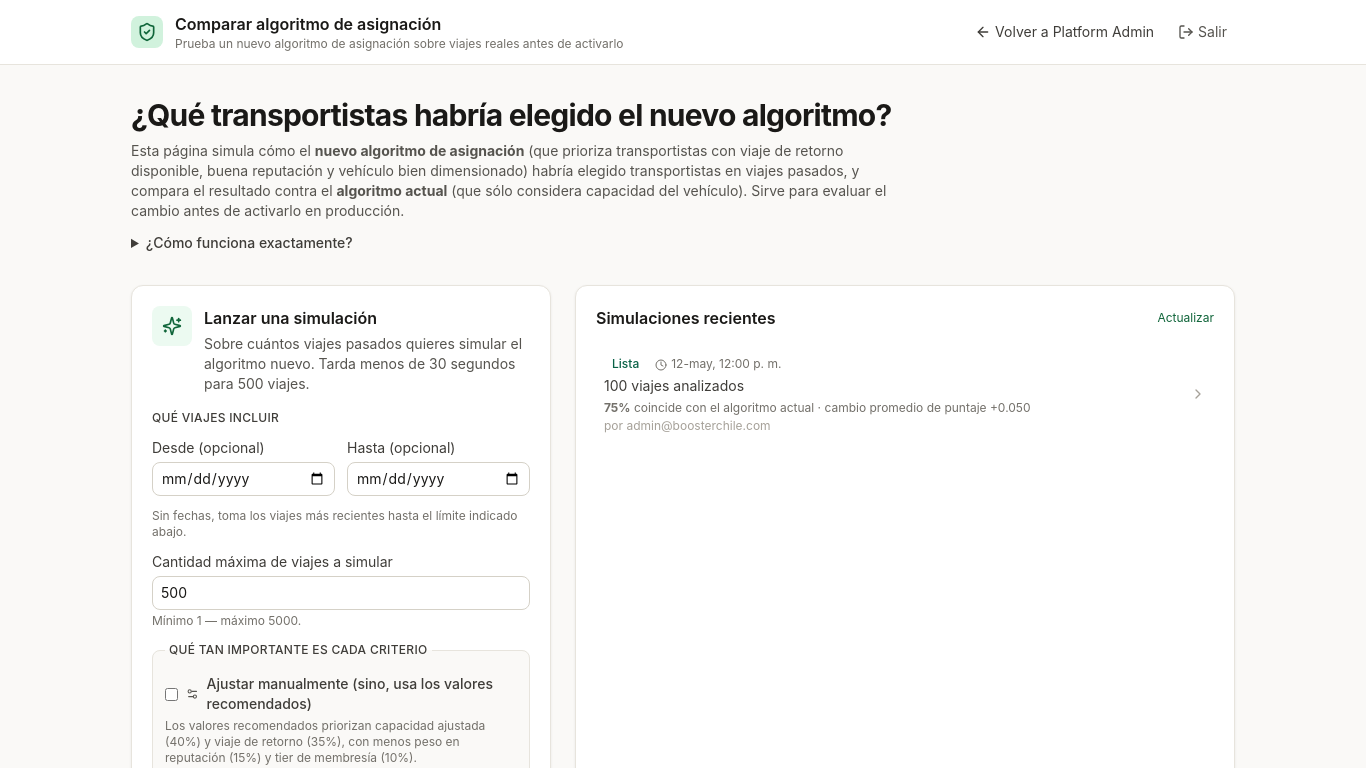
Test: Detalle de una simulación › click en una simulación carga el detalle con métricas en español
The image size is (1366, 768).
# La fila se identifica por el conteo de viajes analizados.
Click the text "100 viajes analizados" at (674, 386), box x1=604 y1=377 x2=744 y2=394
(page scrolled)
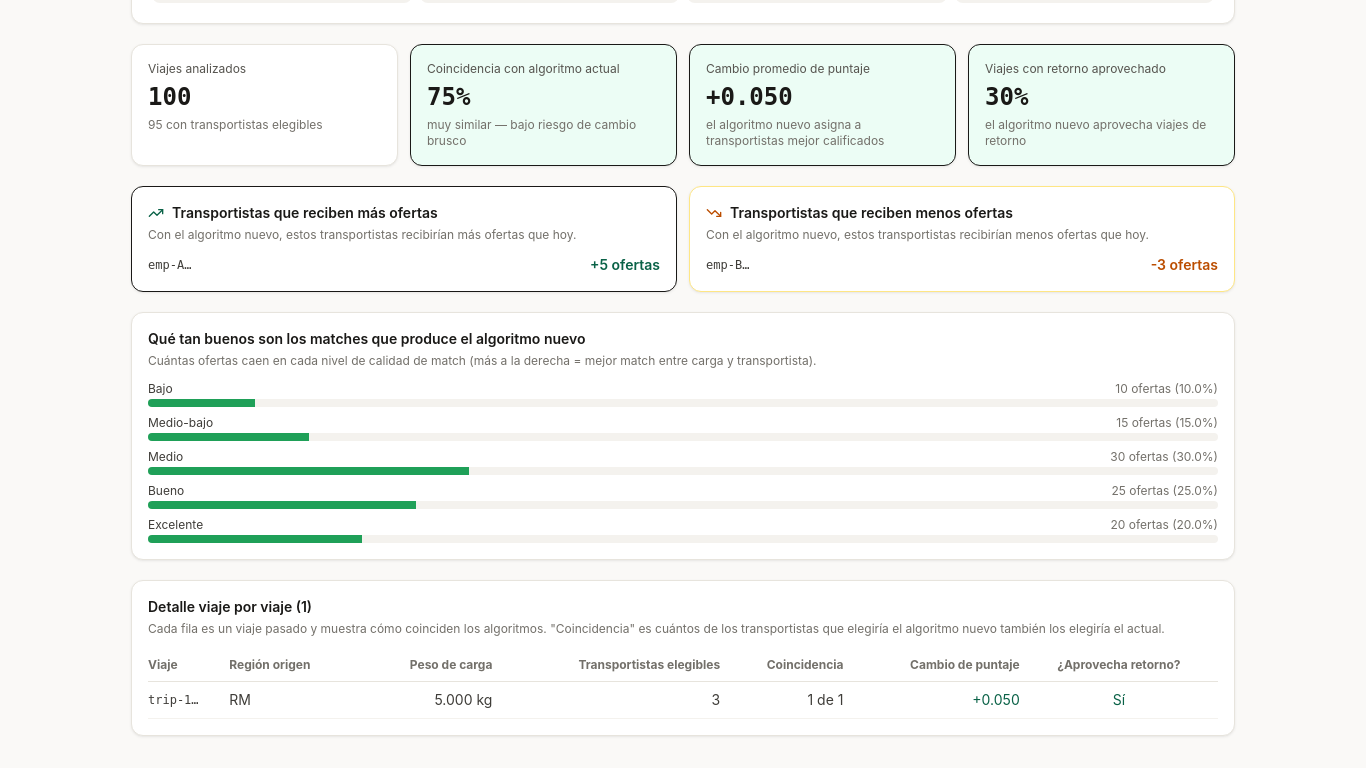
Check: the text "Viajes analizados" is shown, box x1=148 y1=60 x2=246 y2=76
Check: the text "Coincidencia con algoritmo actual" is shown, box x1=427 y1=60 x2=620 y2=76
Check: the text "Cambio promedio de puntaje" is shown, box x1=706 y1=60 x2=870 y2=76
